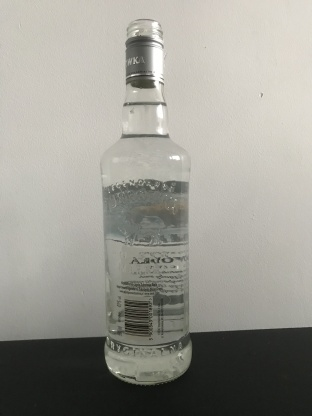nakretka: (123, 17, 166, 89)
